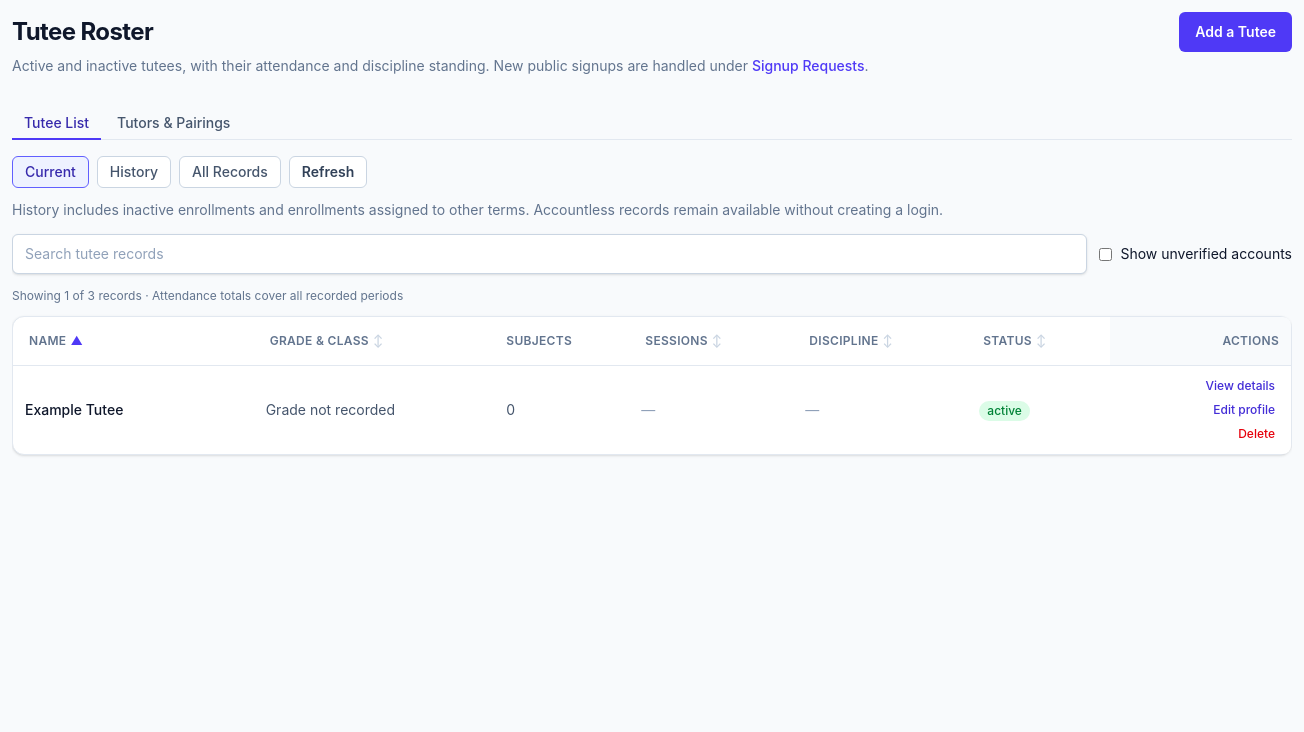
Test: reveals historical and unverified records independently without setup or current-grade demands
The width and height of the screenshot is (1304, 732).
Expected: the text "Archive Learner" is not shown
Expected: the text "Unverified Learner" is not shown
Click the button "History": click(134, 172) [97,156,171,188]
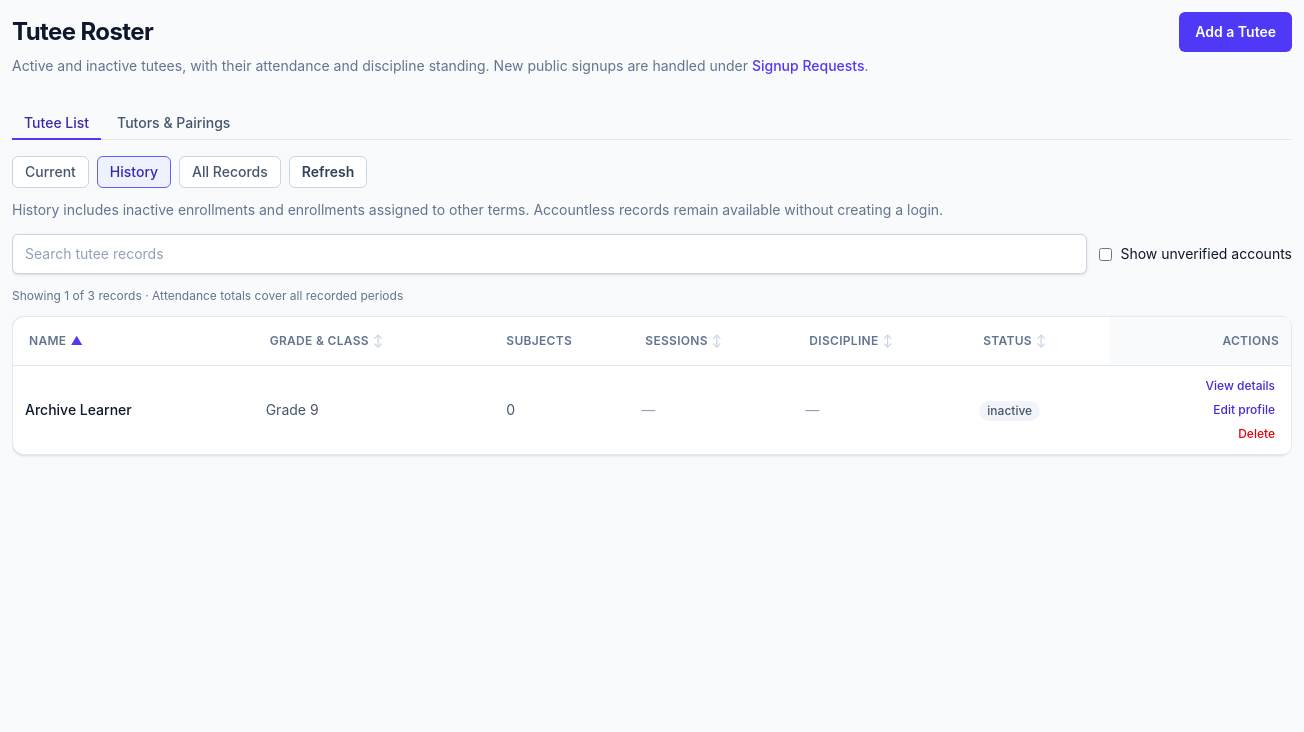
Expected: the buttons read "View details", "Edit profile", "Delete", in this order, [1202,374,1279,398]; [1209,398,1279,422]; [1234,422,1279,446]
Result: the text "Grade 9" is shown at [266,401,319,418]
Result: the text "Example Tutee" is gone
Click the button "All Records": click(230, 172) [179,156,281,188]
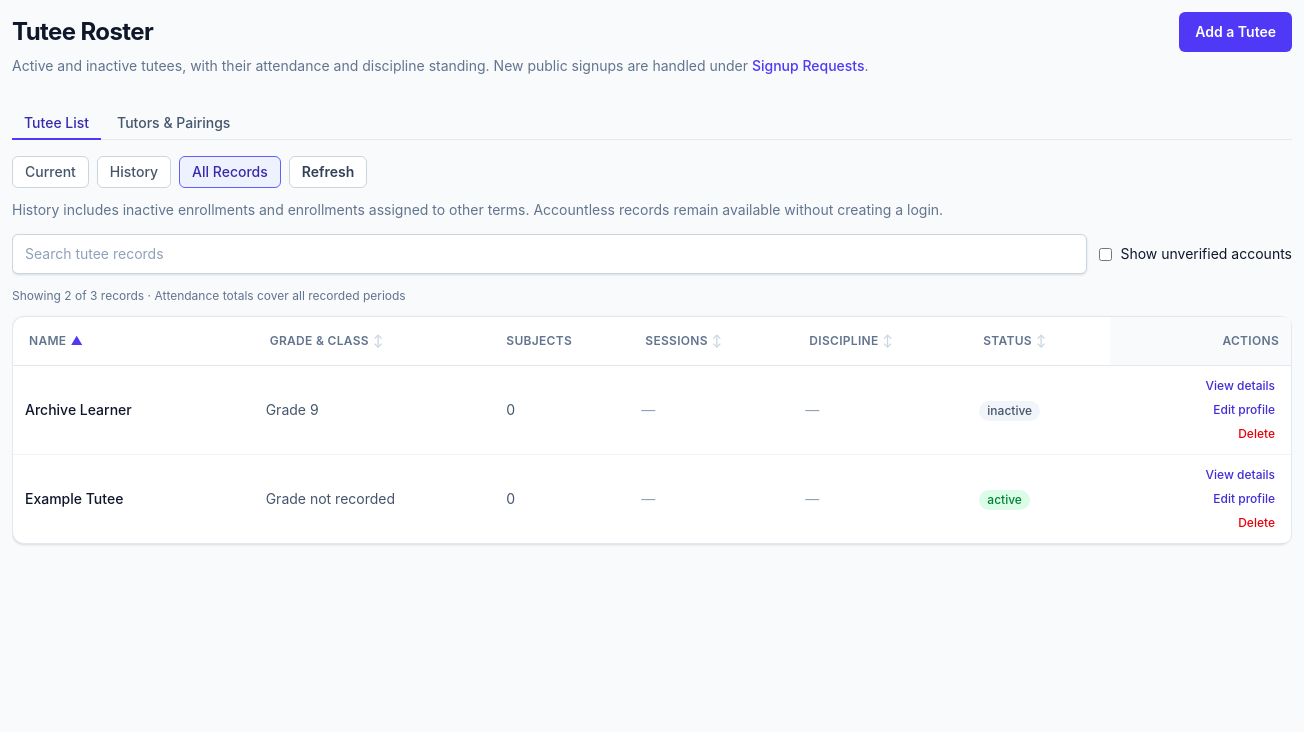
Click the checkbox labelled "Show unverified accounts": click(1106, 254) [1099,248,1112,260]
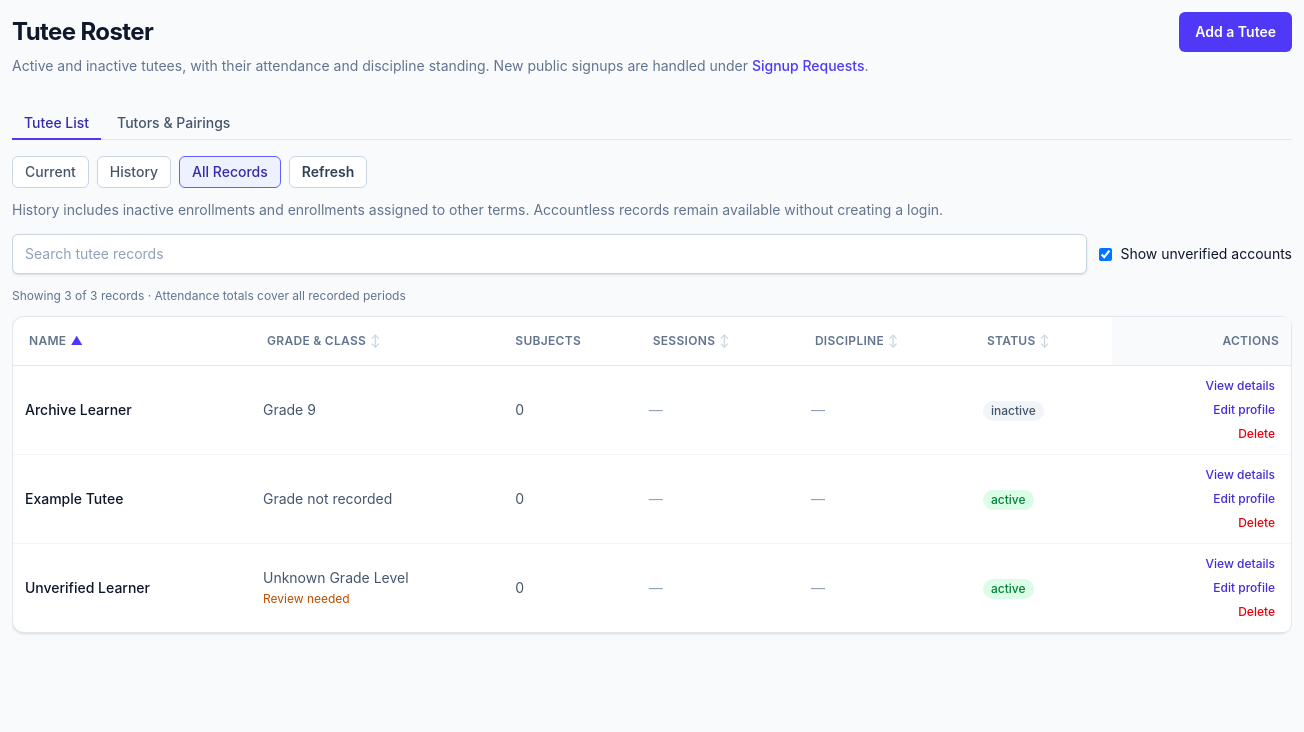
Result: the text "Unverified Learner" is shown at [25,579,150,596]
In the field labelled "Search tutee records": (550, 254) [12,234,1087,274], type "archive"
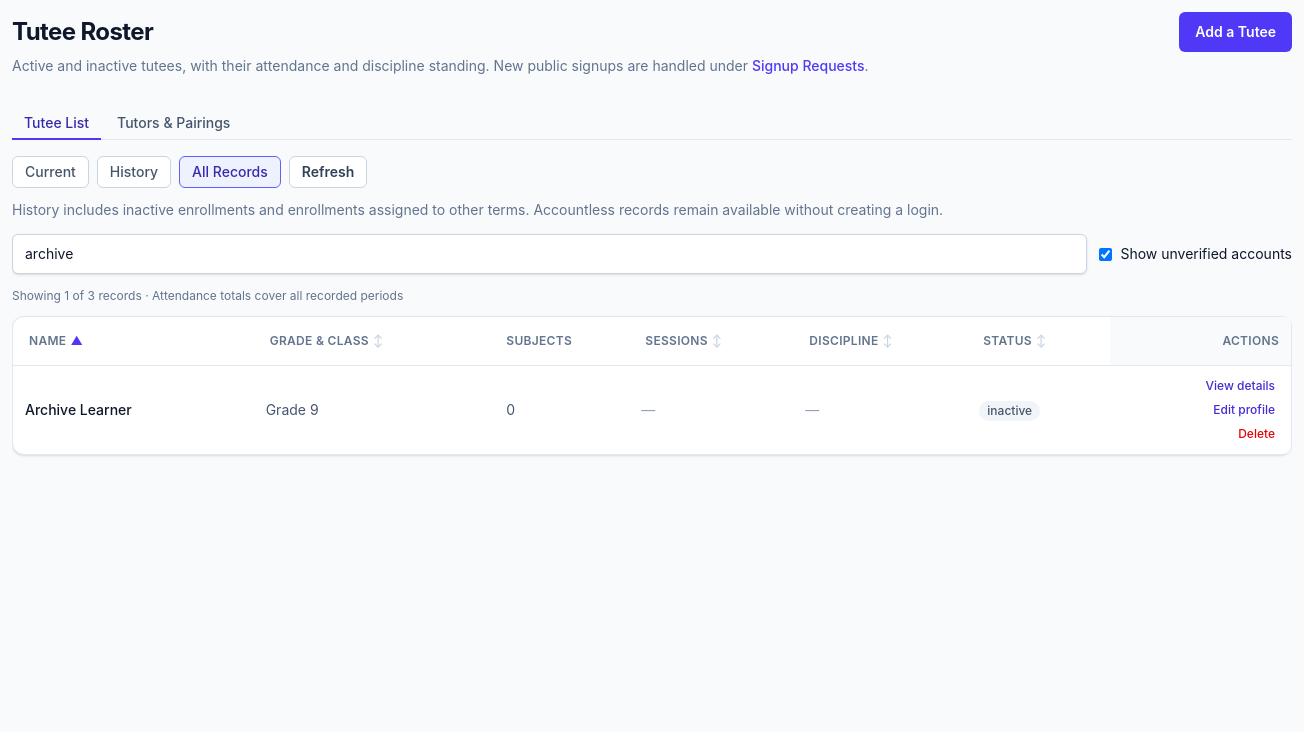
Result: the text "Archive Learner" is shown at [25,401,132,418]
Result: the text "Unverified Learner" is gone
